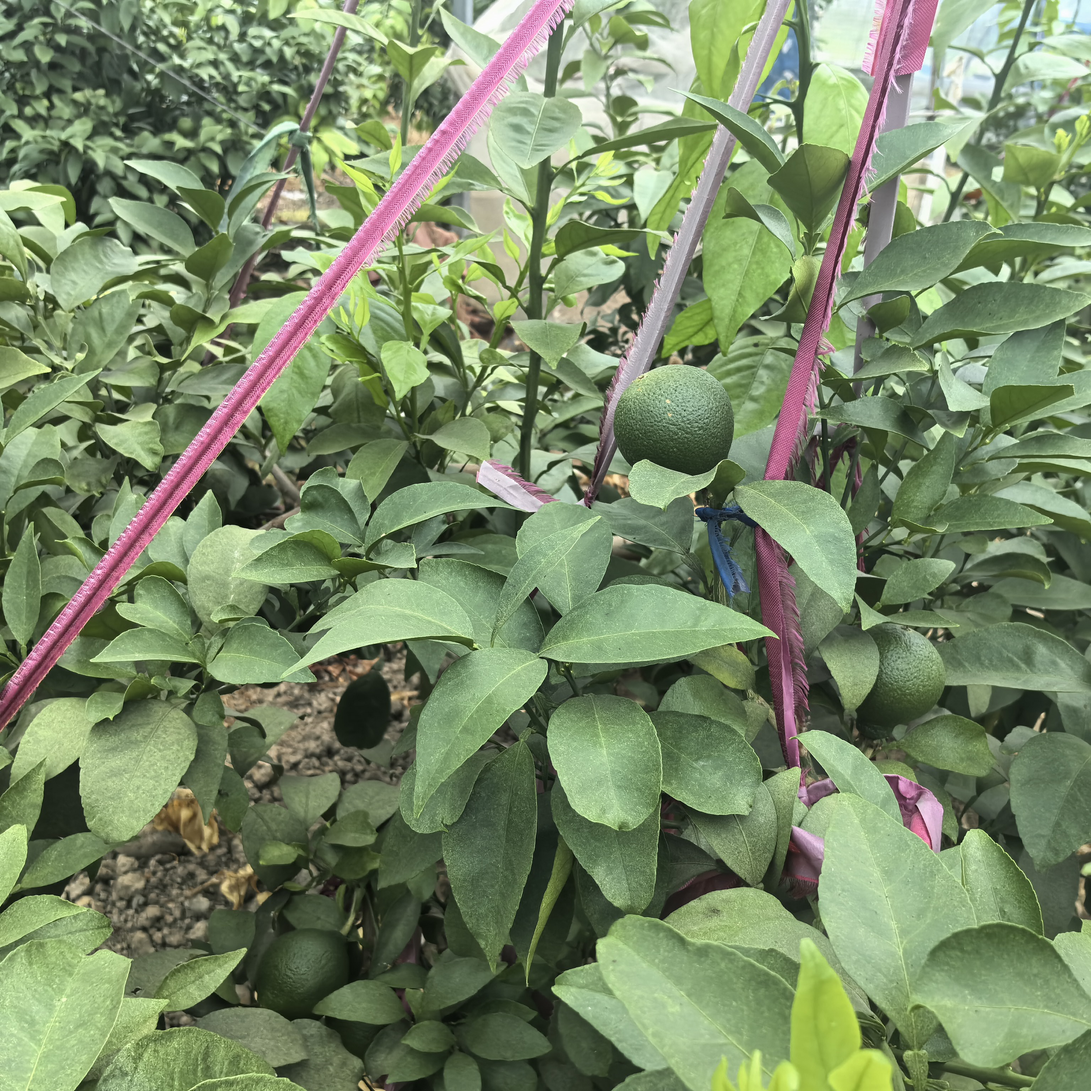orange_immature: (614, 365, 734, 475), (856, 623, 945, 727), (256, 928, 349, 1013), (322, 1015, 389, 1062), (176, 117, 195, 135)
